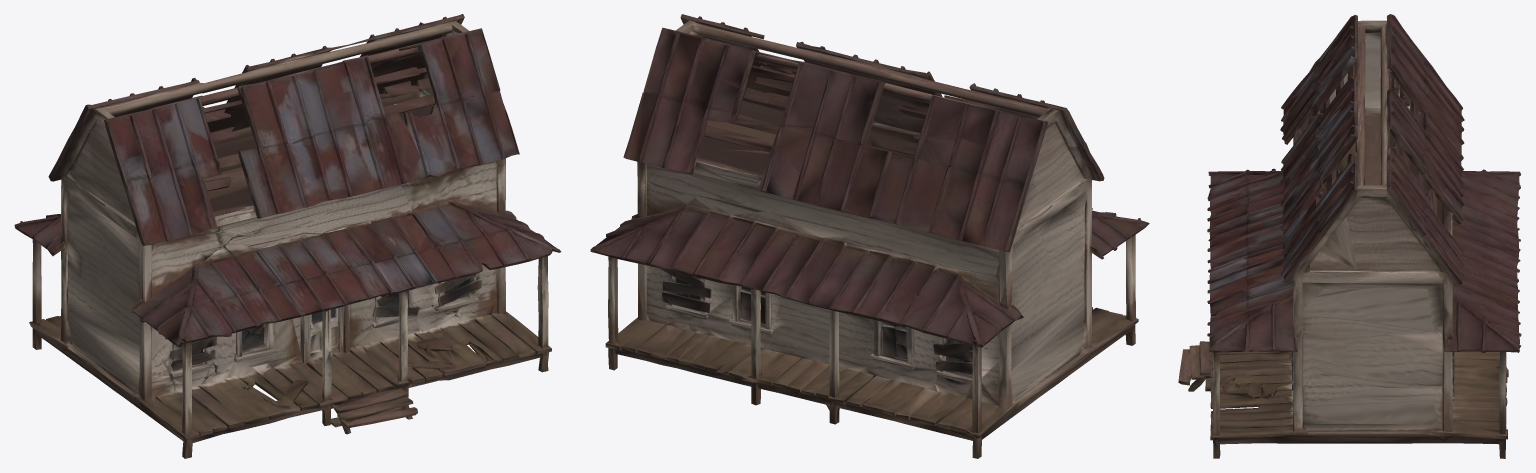
File: house_porch_idle.glb
3 views of the same model, side by side, from view 1: azimuth 30°, elevation 25°; view 2: azimuth 150°, elevation 25°; view 3: azimuth 270°, elevation 25° (orthographic). The views are drawn at different scales.
Parts seen in each view (by area): view 1: tripo_node_b3433e4b-f004-4329-9b1e-d4e2898ef2d6; view 2: tripo_node_b3433e4b-f004-4329-9b1e-d4e2898ef2d6; view 3: tripo_node_b3433e4b-f004-4329-9b1e-d4e2898ef2d6.
Boxes of the visible parts, x1=… form: tripo_node_b3433e4b-f004-4329-9b1e-d4e2898ef2d6: x1=14, y1=14, x2=561, y2=458; tripo_node_b3433e4b-f004-4329-9b1e-d4e2898ef2d6: x1=590, y1=14, x2=1149, y2=458; tripo_node_b3433e4b-f004-4329-9b1e-d4e2898ef2d6: x1=1178, y1=14, x2=1521, y2=458.
Bounding box in the file's own units: 8.99 × 6.42 × 7.22.
Materials: 1 (1 with a texture image).
